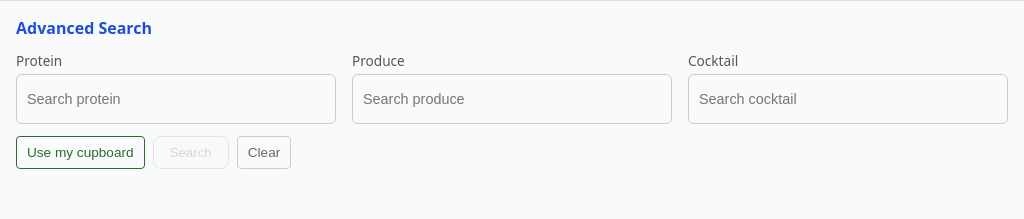
Test: AdvancedSearch › cupboard search (Ticket 13) › disables the search when nothing is ticked
Click the button with class "cupboard-btn": [80, 152] box [16, 136, 144, 169]
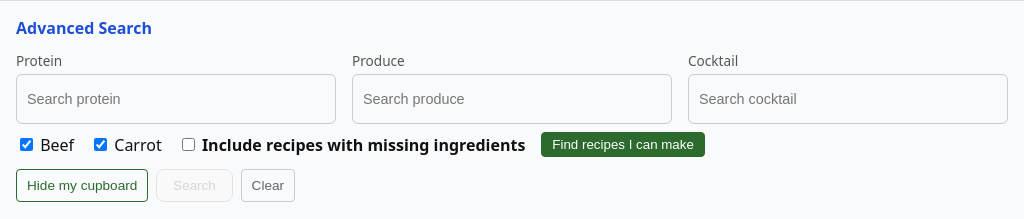
Click the checkbox labelled "Beef": [26, 144] box [20, 138, 33, 150]
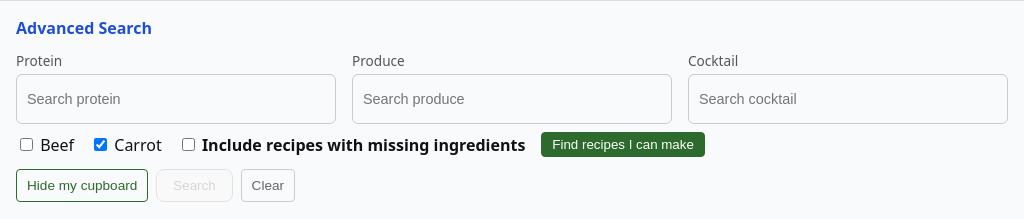
Click the checkbox labelled "Carrot": [101, 144] box [94, 138, 107, 150]
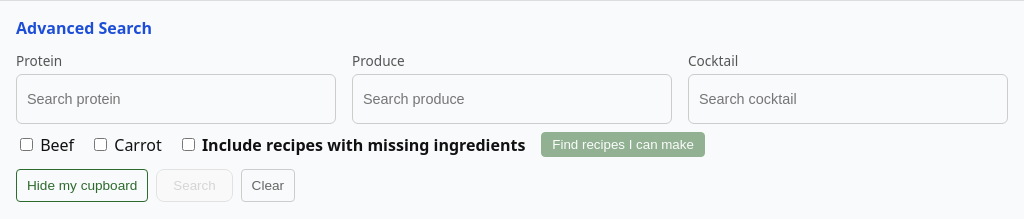
Expected: the button with class "cupboard-search-btn" is disabled, [541, 132, 705, 157]
